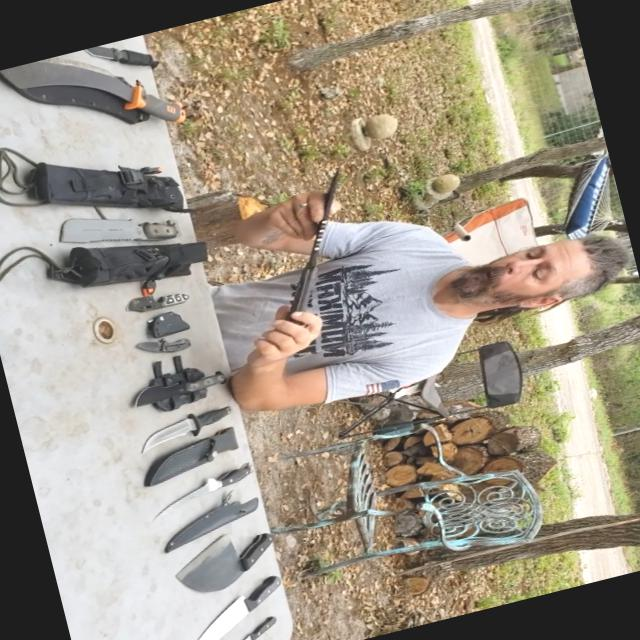knife: (232, 166, 394, 330), (0, 27, 193, 161), (153, 512, 306, 607), (54, 190, 199, 268), (161, 566, 307, 639), (145, 443, 273, 518), (111, 361, 241, 417), (121, 397, 240, 458), (73, 31, 169, 94), (114, 275, 228, 322), (106, 326, 200, 368), (222, 605, 296, 639)
